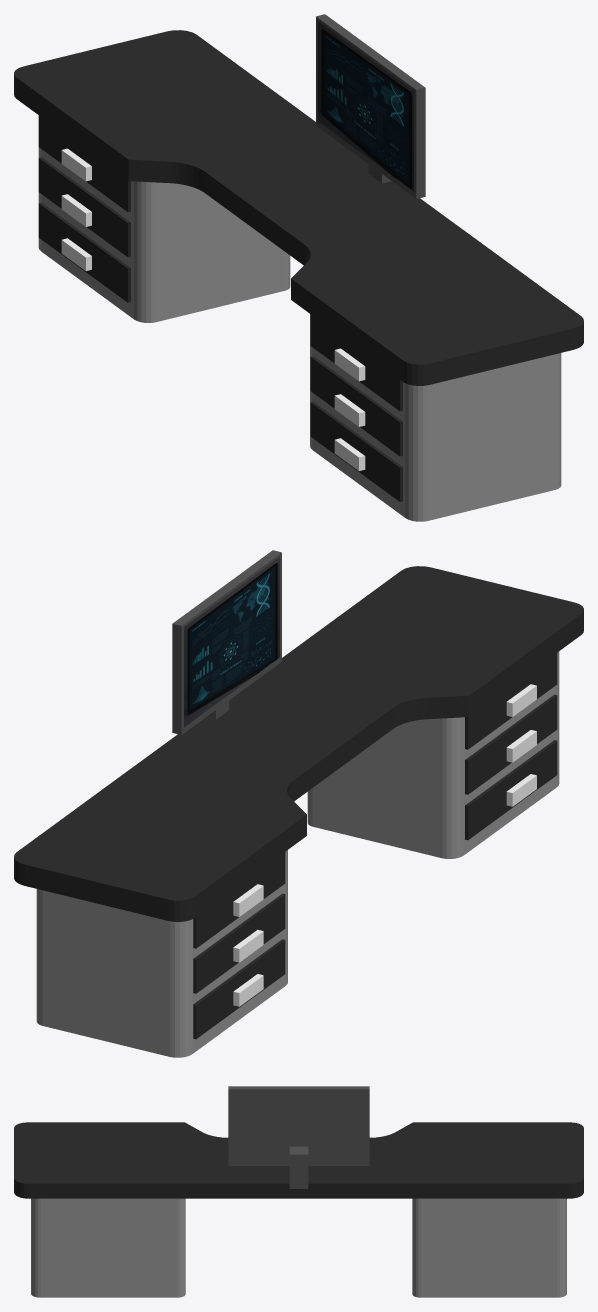
Rendered from Lab Desk.fbx.
3 renders of one model, top to bottom at view 1: azimuth 30°, elevation 25°; view 2: azimuth 150°, elevation 25°; view 3: azimuth 270°, elevation 25°, orthographic. The views are drawn at different scales.
Visible parts, largest first — view 1: TableTop, TableBase, Plane, Cube.006, Cube.002, Cube.005, Cube.004, Cube.001, Cube, Cube.003; view 2: TableTop, TableBase, Plane, Cube.006, Cube.002, Cube.001, Cube.005, Cube.004, Cube, Cube.003; view 3: TableTop, TableBase, Cube.006.
Boxes of the visible parts, x1,y1,x2,y2 form: TableTop: [14, 30, 583, 385]; TableBase: [38, 147, 561, 521]; Plane: [318, 21, 413, 191]; Cube.006: [316, 14, 425, 198]; Cube.002: [38, 202, 130, 302]; Cube.005: [310, 401, 402, 501]; Cube.004: [310, 356, 402, 456]; Cube.001: [38, 157, 130, 257]; Cube: [38, 115, 130, 212]; Cube.003: [310, 314, 402, 411]; TableTop: [14, 566, 583, 921]; TableBase: [36, 651, 559, 1057]; Plane: [184, 557, 279, 727]; Cube.006: [172, 550, 281, 734]; Cube.002: [193, 939, 285, 1039]; Cube.001: [193, 893, 285, 993]; Cube.005: [465, 740, 557, 840]; Cube.004: [465, 694, 557, 794]; Cube: [193, 852, 285, 948]; Cube.003: [465, 653, 557, 749]; TableTop: [14, 1122, 583, 1198]; TableBase: [31, 1198, 566, 1297]; Cube.006: [228, 1086, 369, 1188].
Bounding box in the file's own units: 266 × 993 × 400.
